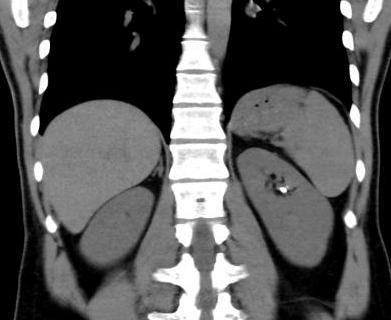Tas_Var: (279, 186, 288, 194), (286, 185, 291, 188)
